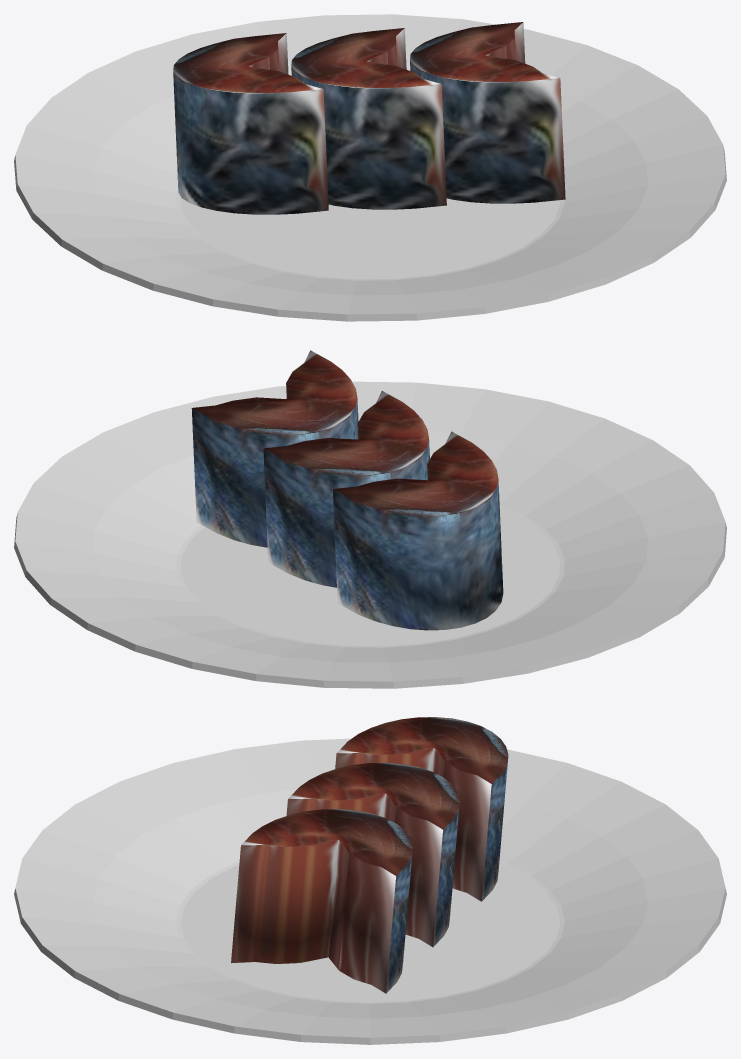
The model's file is trimmed_saba.fbx.
3 views of the same model, one above another, from view 1: azimuth 30°, elevation 25°; view 2: azimuth 150°, elevation 25°; view 3: azimuth 270°, elevation 25° (orthographic).
Parts seen in each view (by area): view 1: 원형.033, 고등어.003; view 2: 원형.033, 고등어.003; view 3: 원형.033, 고등어.003.
Boxes of the visible parts, x1,y1,x2,y2 form: 원형.033: [14, 14, 726, 321]; 고등어.003: [173, 22, 565, 214]; 원형.033: [14, 381, 726, 688]; 고등어.003: [191, 350, 503, 630]; 원형.033: [14, 738, 726, 1044]; 고등어.003: [231, 717, 508, 993].
Size of the model in its own units: 293 by 70.73 by 293.
